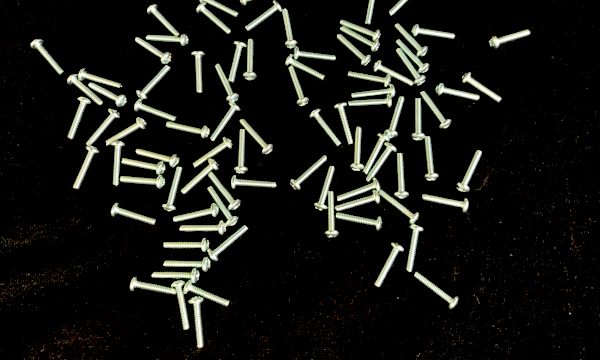longscrew: (414, 274, 459, 308), (369, 245, 405, 287), (69, 145, 103, 188), (291, 153, 328, 190), (462, 70, 501, 105), (212, 226, 248, 262), (191, 137, 231, 169), (137, 64, 174, 98), (210, 105, 244, 142), (183, 282, 230, 308), (309, 110, 342, 147), (206, 188, 239, 225), (377, 191, 417, 221), (30, 42, 65, 76), (183, 159, 218, 193), (418, 92, 450, 129), (237, 122, 274, 154), (375, 60, 413, 91), (127, 273, 176, 297), (455, 152, 484, 192), (66, 73, 100, 107), (88, 108, 120, 144), (133, 34, 171, 64), (104, 118, 146, 145), (314, 166, 338, 212), (64, 99, 93, 136), (213, 66, 241, 104), (147, 4, 180, 36), (162, 166, 184, 214), (398, 39, 429, 73), (369, 144, 396, 183), (196, 3, 231, 33), (207, 174, 238, 207), (398, 49, 425, 86), (395, 23, 427, 54), (339, 32, 369, 65), (171, 283, 192, 330), (490, 28, 532, 51), (413, 21, 455, 44), (424, 191, 470, 212), (341, 24, 378, 50), (287, 65, 311, 105), (333, 104, 357, 144), (137, 145, 179, 167), (135, 101, 177, 123), (336, 180, 380, 201), (112, 205, 158, 225), (363, 135, 387, 173), (246, 2, 281, 28), (90, 81, 126, 106), (336, 193, 381, 213), (341, 16, 380, 39), (385, 97, 406, 139), (165, 116, 209, 136), (288, 55, 324, 79), (80, 69, 122, 89), (323, 193, 341, 239), (437, 81, 480, 100), (423, 137, 442, 180), (406, 226, 423, 273), (352, 126, 369, 173), (282, 5, 300, 49), (409, 98, 427, 142), (336, 214, 382, 231), (348, 96, 394, 113), (346, 70, 392, 87), (227, 41, 245, 84), (235, 129, 253, 172), (393, 154, 411, 197), (351, 85, 396, 102), (174, 205, 220, 221), (190, 297, 203, 350), (292, 47, 336, 62), (232, 175, 279, 189), (122, 158, 165, 173), (200, 0, 239, 16), (390, 0, 426, 17), (192, 51, 205, 96), (119, 177, 165, 189), (166, 258, 208, 271), (246, 39, 258, 84), (145, 33, 188, 45), (365, 0, 383, 28), (163, 240, 213, 250), (178, 224, 228, 234), (148, 270, 197, 280), (112, 140, 122, 189), (240, 0, 281, 5)
